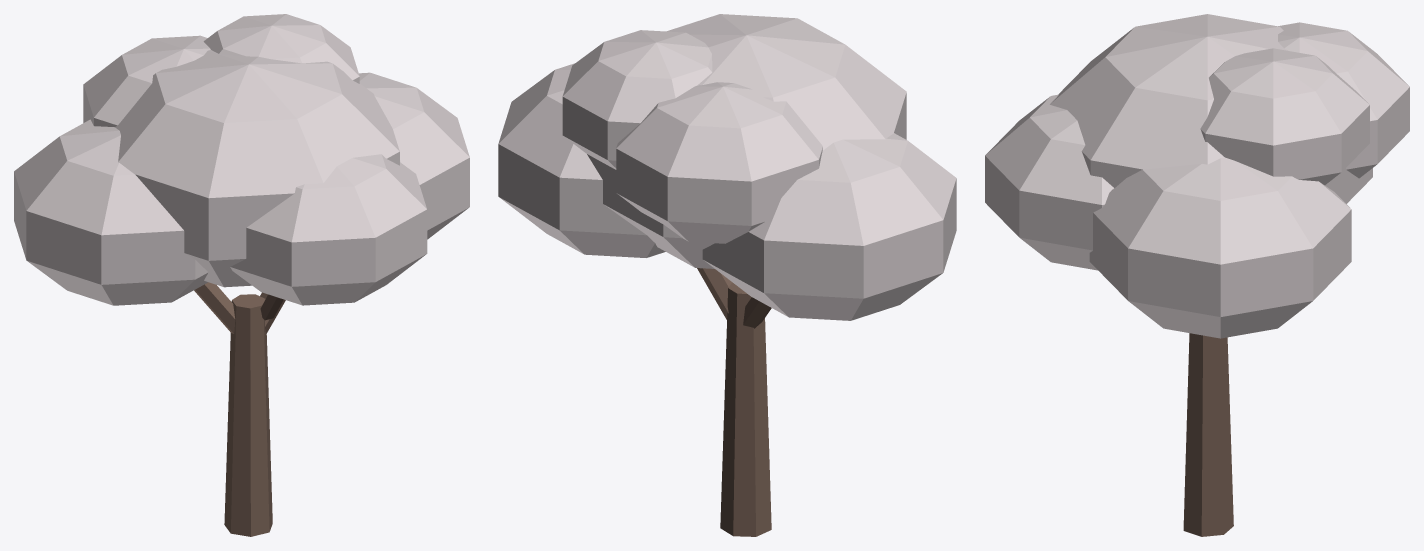
Rendered from tree_plum_blossom.glb.
3 views of the same model, side by side, from view 1: azimuth 30°, elevation 25°; view 2: azimuth 150°, elevation 25°; view 3: azimuth 270°, elevation 25° (orthographic). The views are drawn at different scales.
Parts seen in each view (by area): view 1: tree_plum_blossom; view 2: tree_plum_blossom; view 3: tree_plum_blossom.
Part boxes in pixels (left/top/right/bottom): tree_plum_blossom: left=14, top=14, right=469, bottom=536; tree_plum_blossom: left=498, top=14, right=956, bottom=536; tree_plum_blossom: left=985, top=14, right=1409, bottom=536.
Bounding box in the file's own units: 4.71 × 5 × 3.91.
